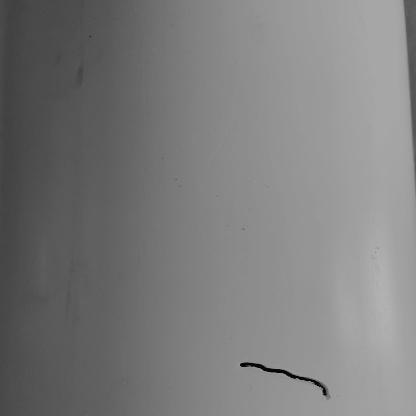fengxi: (239, 360, 332, 402)
